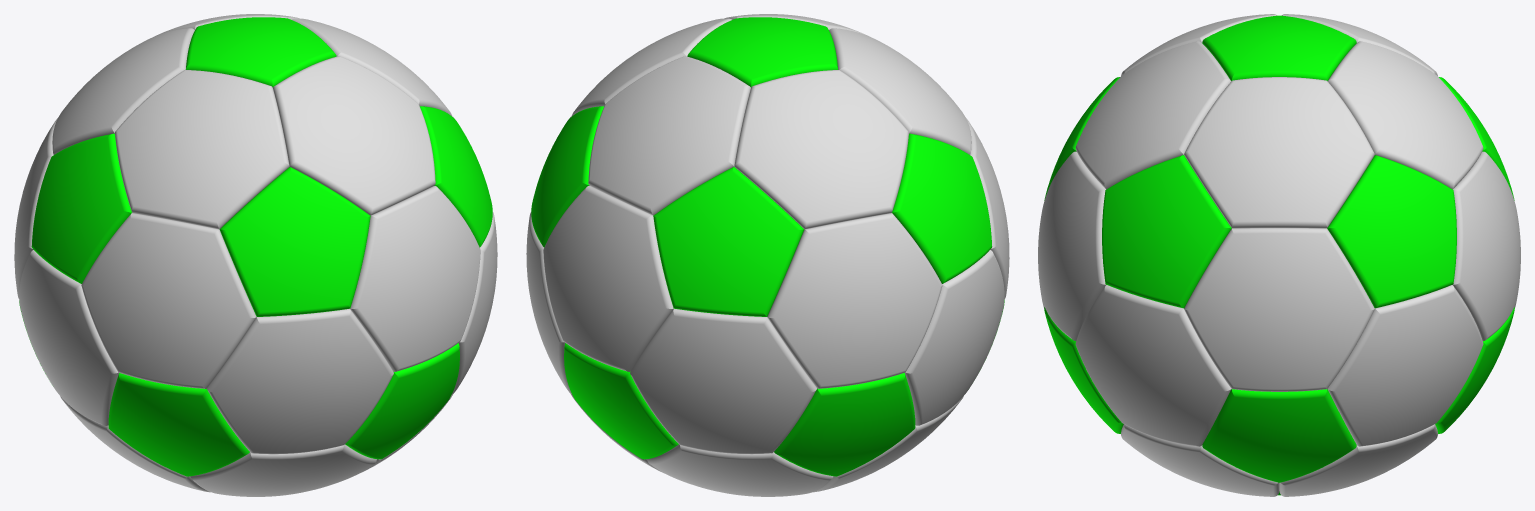
The model's file is football.fbx.
3 views of the same model, side by side, from view 1: azimuth 30°, elevation 25°; view 2: azimuth 150°, elevation 25°; view 3: azimuth 270°, elevation 25° (orthographic).
Visible parts, largest first — view 1: Body_1_6, Body_1_30, Body_1_5, Body_1_31, Body_1_22, Body_1_26, Body_1_7, Body_1_21, Body_1_4, Body_1_8, Body_1_9, Body_1_14 (+7 smaller); view 2: Body_1_25, Body_1_8, Body_1_20, Body_1_33, Body_1_24, Body_1_29, Body_1_7, Body_1_21, Body_1_17, Body_1_30, Body_1_9, Body_1_16 (+8 smaller); view 3: Body_1_23, Body_1_32, Body_1_18, Body_1_19, Body_1_27, Body_1_28, Body_1_31, Body_1_33, Body_1_15, Body_1_22, Body_1_24, Body_1_9 (+8 smaller).
Boxes of the visible parts, box(x1,y1,x2,y2) form: Body_1_6: box(81, 213, 256, 388); Body_1_30: box(115, 70, 289, 229); Body_1_5: box(207, 308, 393, 454); Body_1_31: box(273, 56, 435, 215); Body_1_22: box(350, 186, 480, 371); Body_1_26: box(219, 167, 370, 316); Body_1_7: box(31, 133, 131, 283); Body_1_21: box(19, 250, 118, 425); Body_1_4: box(108, 373, 249, 476); Body_1_8: box(52, 28, 194, 154); Body_1_9: box(185, 17, 336, 87); Body_1_14: box(345, 343, 459, 459); Body_1_25: box(767, 213, 942, 388); Body_1_8: box(734, 70, 908, 229); Body_1_20: box(630, 308, 816, 454); Body_1_33: box(588, 56, 750, 215); Body_1_24: box(543, 186, 673, 371); Body_1_29: box(653, 167, 804, 316); Body_1_7: box(892, 133, 992, 283); Body_1_21: box(905, 250, 1004, 425); Body_1_17: box(774, 373, 915, 476); Body_1_30: box(829, 28, 971, 154); Body_1_9: box(687, 17, 838, 87); Body_1_16: box(564, 343, 678, 459); Body_1_23: box(1184, 228, 1374, 391); Body_1_32: box(1184, 77, 1374, 228); Body_1_18: box(1075, 285, 1231, 446); Body_1_19: box(1327, 285, 1483, 446); Body_1_27: box(1102, 155, 1231, 308); Body_1_28: box(1327, 155, 1456, 308); Body_1_31: box(1075, 41, 1231, 189); Body_1_33: box(1327, 41, 1483, 189); Body_1_15: box(1202, 389, 1356, 482); Body_1_22: box(1038, 151, 1106, 340); Body_1_24: box(1452, 151, 1520, 340); Body_1_9: box(1202, 15, 1356, 80).
Size of the model in its own units: 0.3999 by 0.3998 by 0.4.
